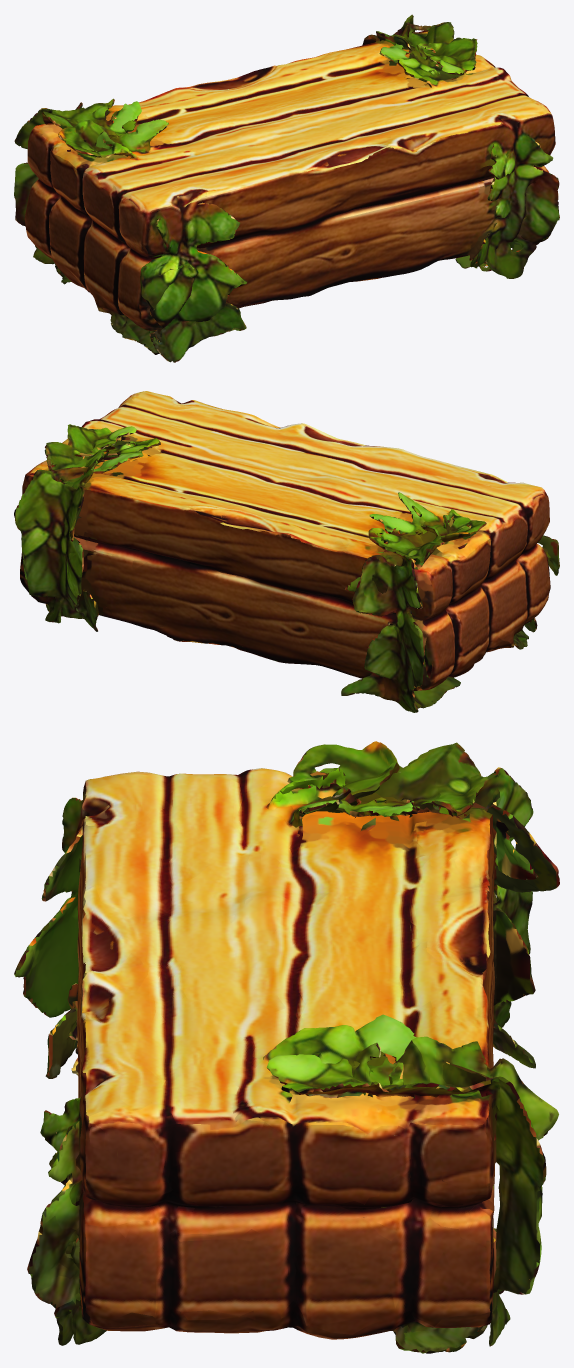
Rendered from wood_platform.glb.
The picture shows the model from 3 angles, top to bottom: view 1: azimuth 30°, elevation 25°; view 2: azimuth 150°, elevation 25°; view 3: azimuth 270°, elevation 25°; orthographic projection. The views are drawn at different scales.
Parts seen in each view (by area): view 1: tmph6_yljgt.ply; view 2: tmph6_yljgt.ply; view 3: tmph6_yljgt.ply.
Part boxes in pixels (x1=…): tmph6_yljgt.ply: x1=14, y1=14, x2=559, y2=362; tmph6_yljgt.ply: x1=14, y1=391, x2=559, y2=712; tmph6_yljgt.ply: x1=14, y1=741, x2=559, y2=1353.
Size of the model in its own units: 1.99 by 0.7925 by 1.29.
1 material, 1 textured.
